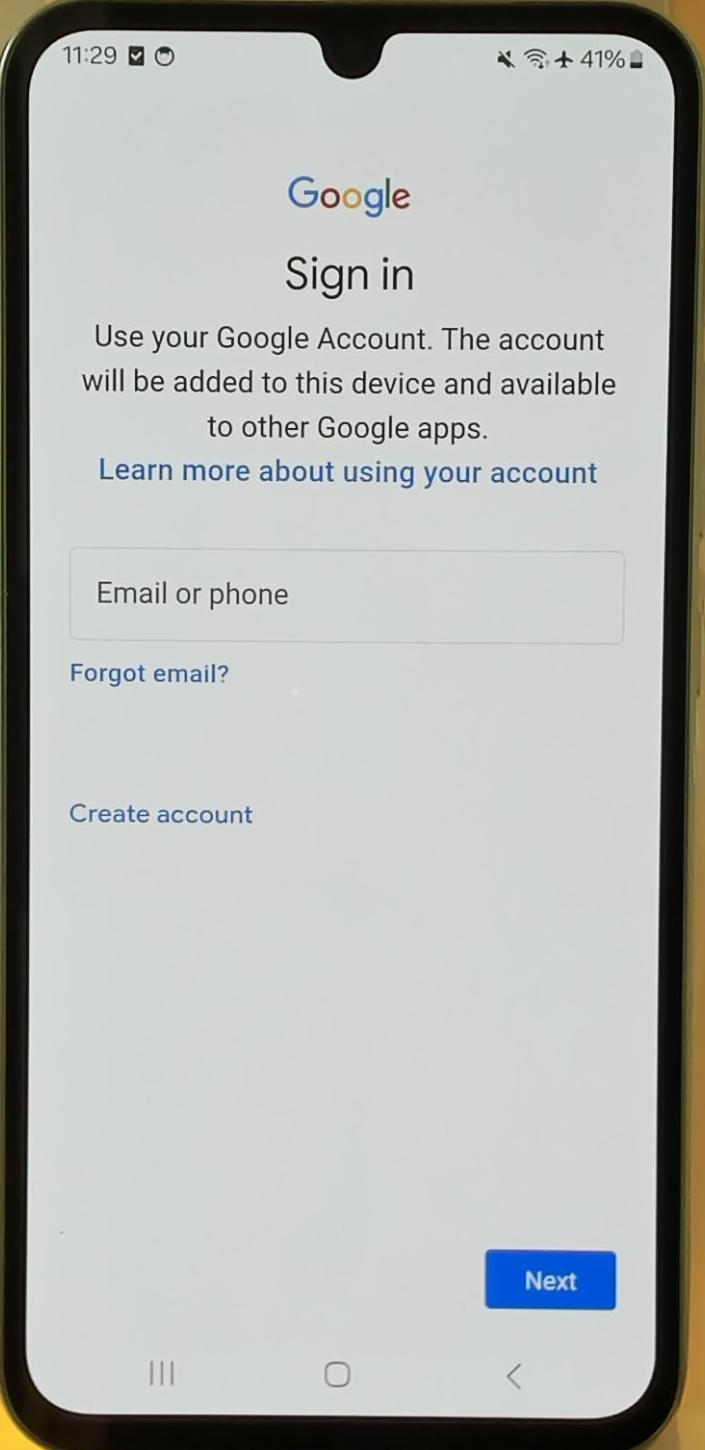CommunBotton: (54, 784, 264, 840), (478, 1244, 620, 1312), (62, 654, 248, 704)
TextField: (58, 538, 640, 650)
